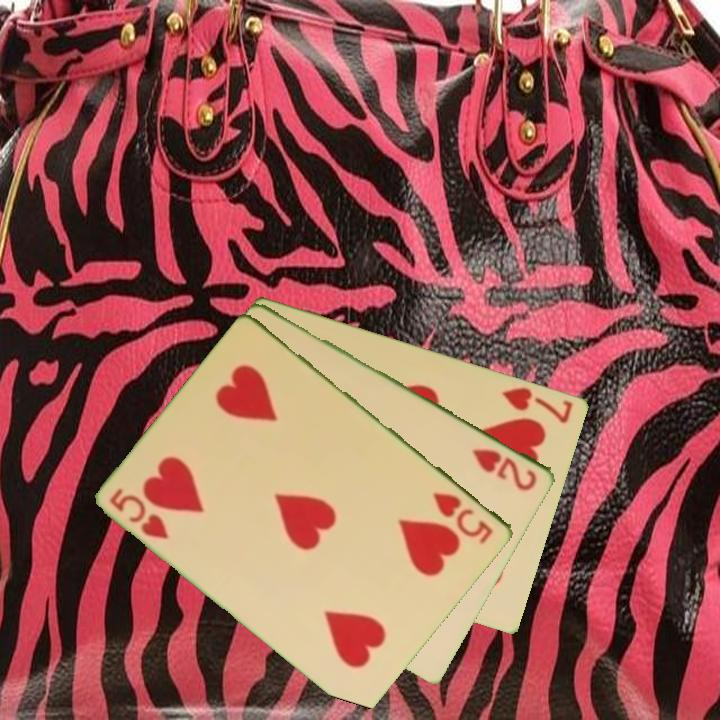2h: (468, 444, 541, 494)
5h: (429, 488, 497, 548), (106, 484, 173, 542)
7h: (499, 383, 576, 426)
